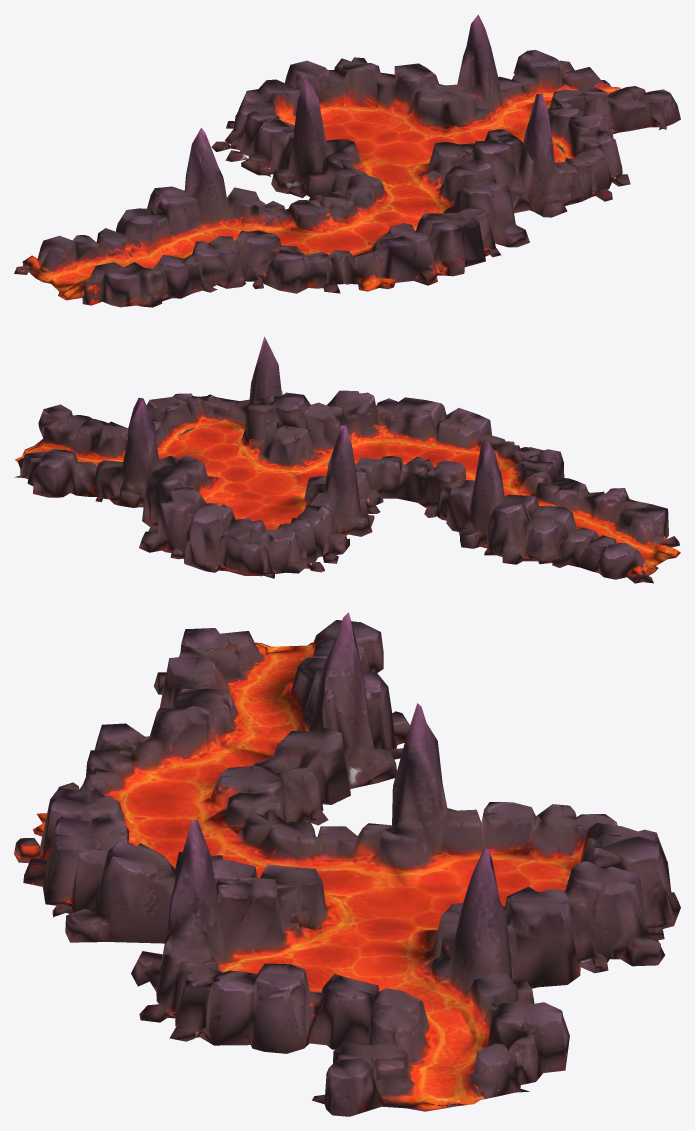
The model's file is lava_river_b.glb.
3 renders of one model, top to bottom at view 1: azimuth 30°, elevation 25°; view 2: azimuth 150°, elevation 25°; view 3: azimuth 270°, elevation 25°, orthographic. The views are drawn at different scales.
Parts seen in each view (by area): view 1: tripo_node_4dc72f7c-37e0-4099-bd50-f5a62a4e0b26; view 2: tripo_node_4dc72f7c-37e0-4099-bd50-f5a62a4e0b26; view 3: tripo_node_4dc72f7c-37e0-4099-bd50-f5a62a4e0b26.
Boxes of the visible parts, x1,y1,x2,y2 form: tripo_node_4dc72f7c-37e0-4099-bd50-f5a62a4e0b26: (14,14,680,307); tripo_node_4dc72f7c-37e0-4099-bd50-f5a62a4e0b26: (14,336,680,583); tripo_node_4dc72f7c-37e0-4099-bd50-f5a62a4e0b26: (14,612,680,1116).
Bounding box in the file's own units: 0.9804 × 0.1526 × 0.5724.
1 material, 1 textured.
